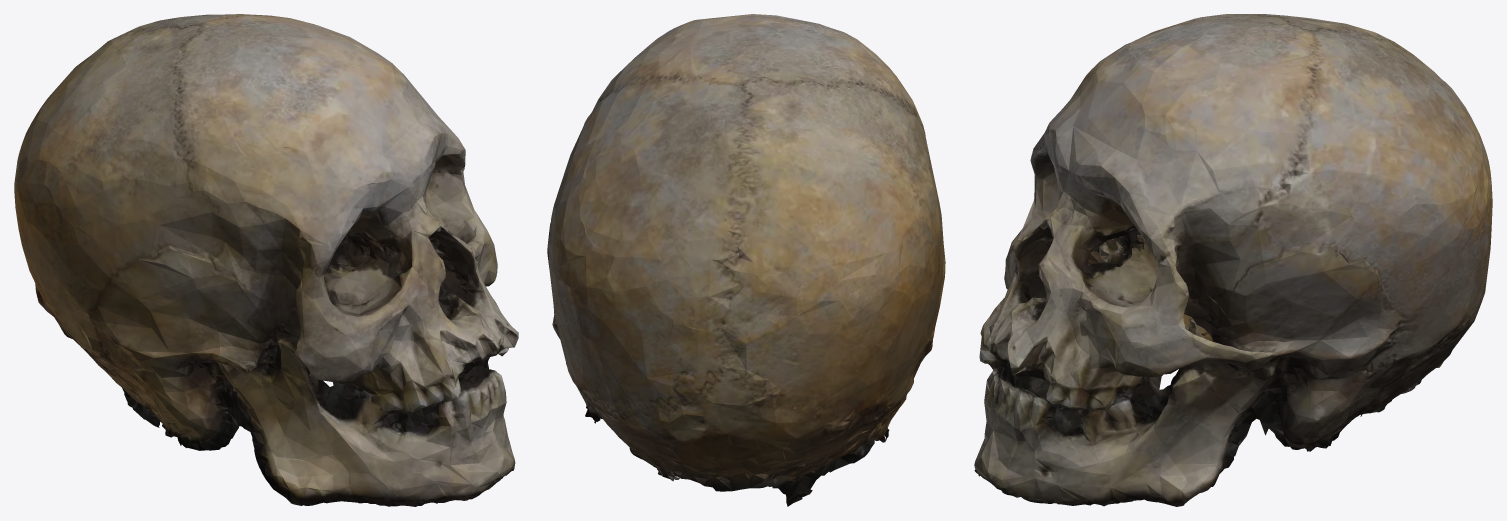
Rendered from human-skull-lite.glb.
3 renders of one model, left to right at view 1: azimuth 30°, elevation 25°; view 2: azimuth 150°, elevation 25°; view 3: azimuth 270°, elevation 25°, orthographic. The views are drawn at different scales.
Parts seen in each view (by area): view 1: Object_3; view 2: Object_3; view 3: Object_3.
Part boxes in pixels (<box>): Object_3: <box>14,14,518,506</box>; Object_3: <box>547,14,945,506</box>; Object_3: <box>974,14,1492,506</box>.
Bounding box in the file's own units: 1.58 × 1.57 × 1.84.
Materials: 1 (1 with a texture image).
